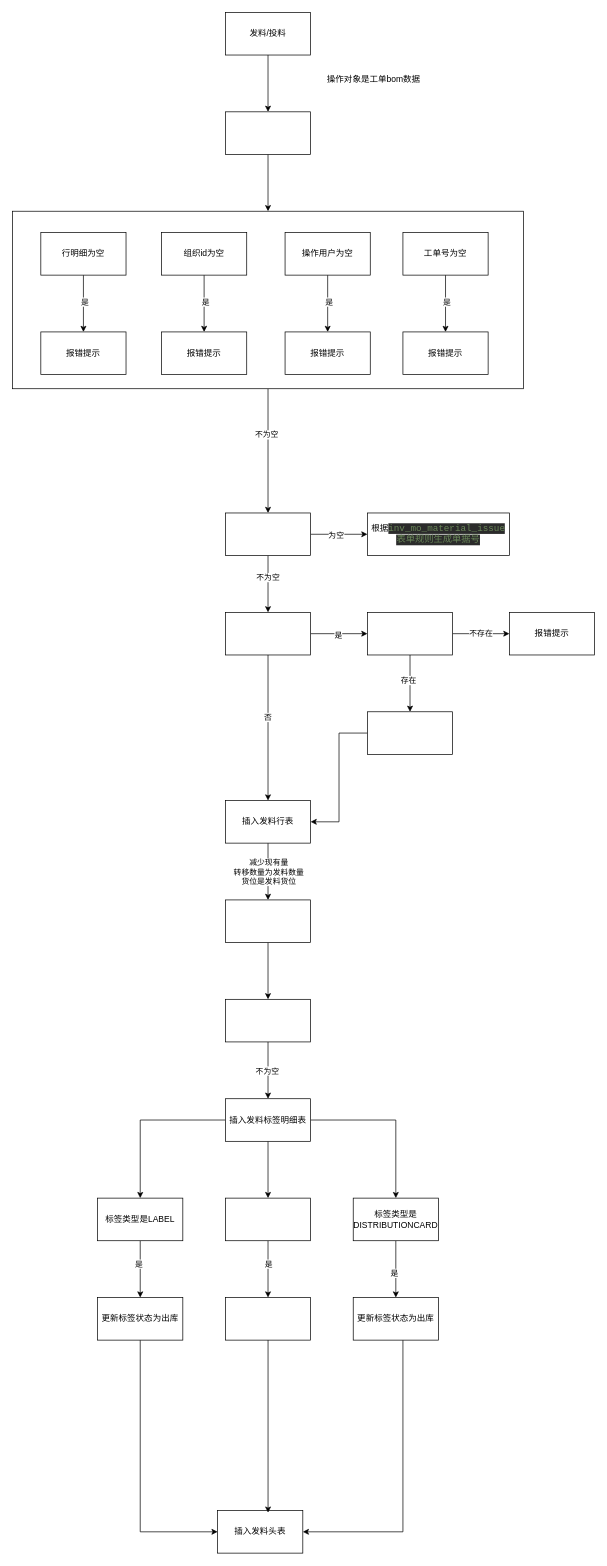
The diagram is 607 pixels wide and 1566 high, and some of its shapes have lost their labels. The shapes that lost their labels are listed below. From the top down, each one's centre as x and y in pixels, then its label:
At point 268,132: "校验参数".
At point 268,534: "判断单号是否为空".
At point 268,633: "校验工单id是否为空".
At point 410,633: "根据工单号查工单表".
At point 410,732: "填充工单id".
At point 268,921: "更新现有量".
At point 268,1020: "判断标签明细是否为空".
At point 268,1219: "标签类型是CONTAINER".
At point 268,1318: "更新载具position为进厂".
